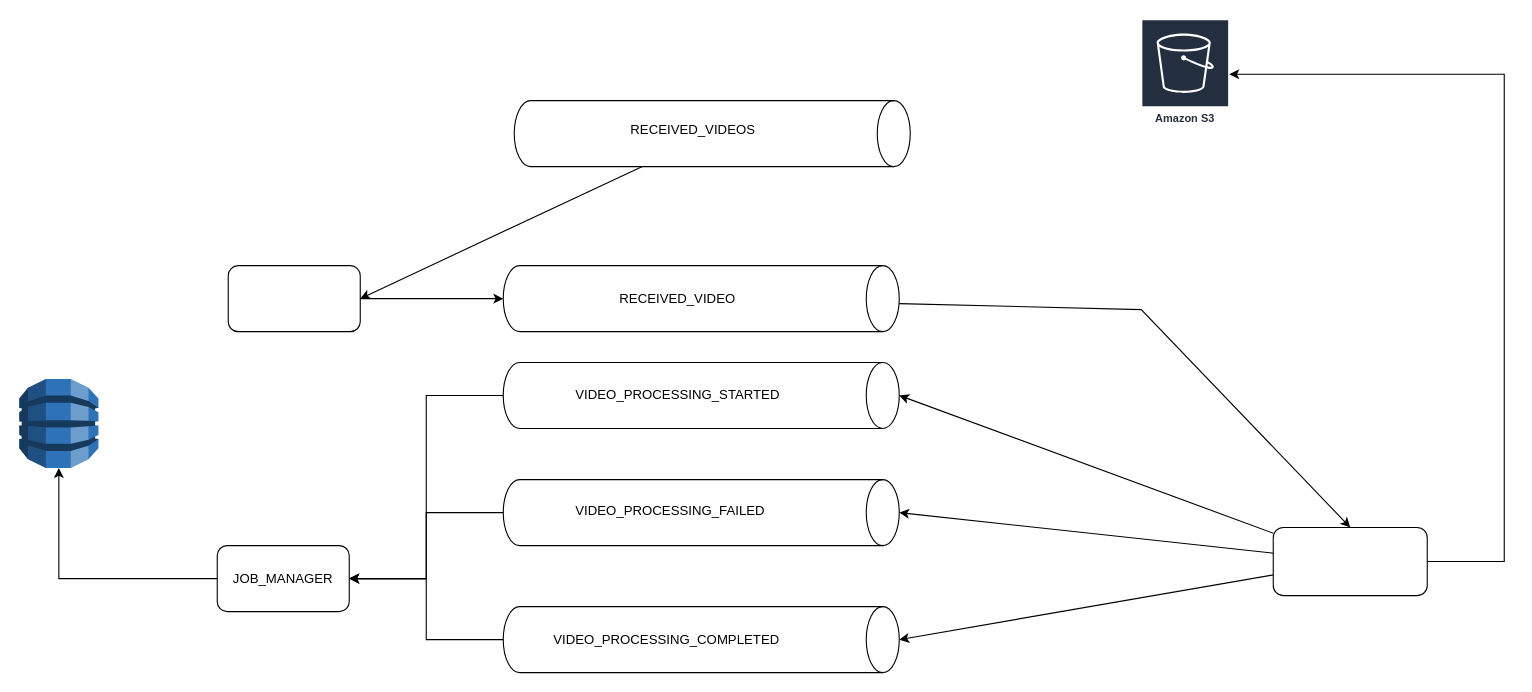
Image size: 1532x692. Some labels were removed from this diagram. Each missing label, with the box of its shape:
VIDEO_PROCESSOR: (1272, 526, 1427, 596)
VIDEO_VALIDATOR: (227, 265, 360, 332)
